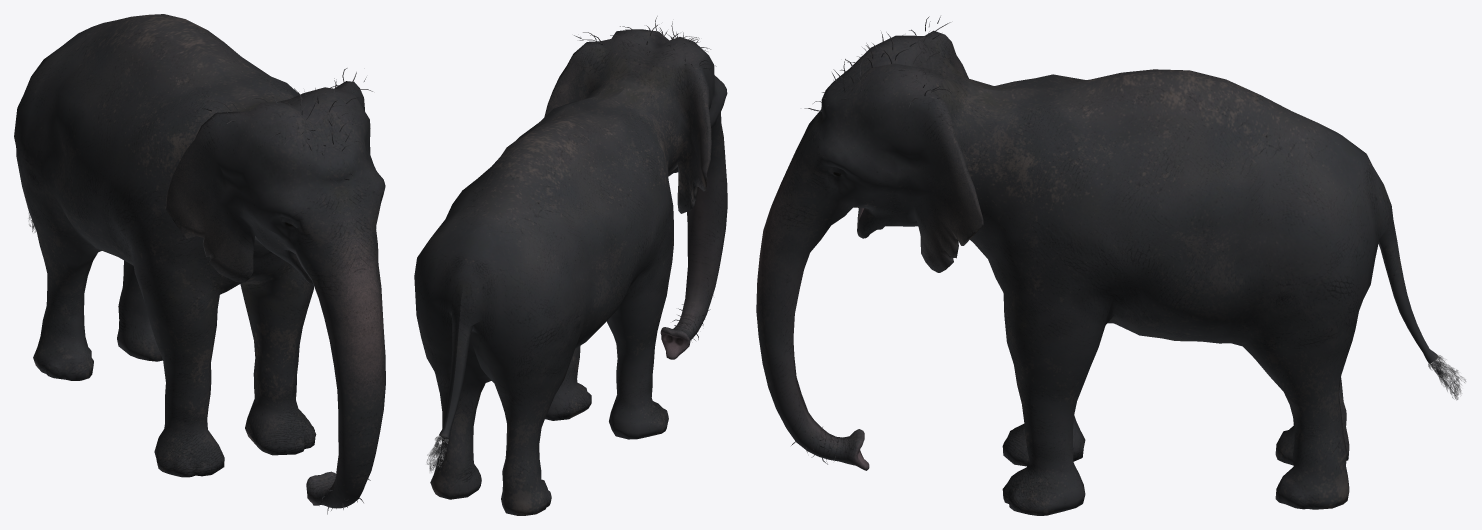
3 views of the same model, side by side, from view 1: azimuth 30°, elevation 25°; view 2: azimuth 150°, elevation 25°; view 3: azimuth 270°, elevation 25° (orthographic). The views are drawn at different scales.
Visible parts, largest first — view 1: VOX_Elephant_Book_Elephant_V1; view 2: VOX_Elephant_Book_Elephant_V1; view 3: VOX_Elephant_Book_Elephant_V1.
Part boxes in pixels (<box>): VOX_Elephant_Book_Elephant_V1: <box>14,14,385,514</box>; VOX_Elephant_Book_Elephant_V1: <box>414,16,727,515</box>; VOX_Elephant_Book_Elephant_V1: <box>756,16,1465,515</box>.
Bounding box in the file's own units: 1.55 × 3.08 × 4.57.
Materials: 1 (1 with a texture image).
